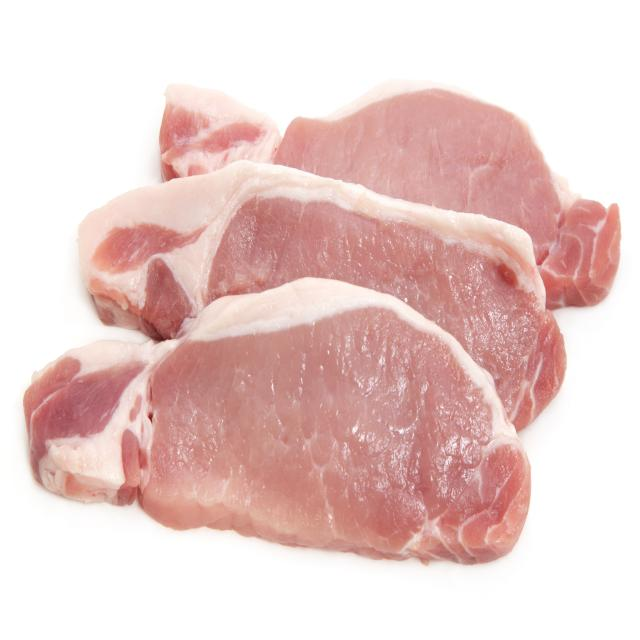Pork: (21, 275, 534, 574), (67, 165, 567, 430), (156, 80, 621, 314)
